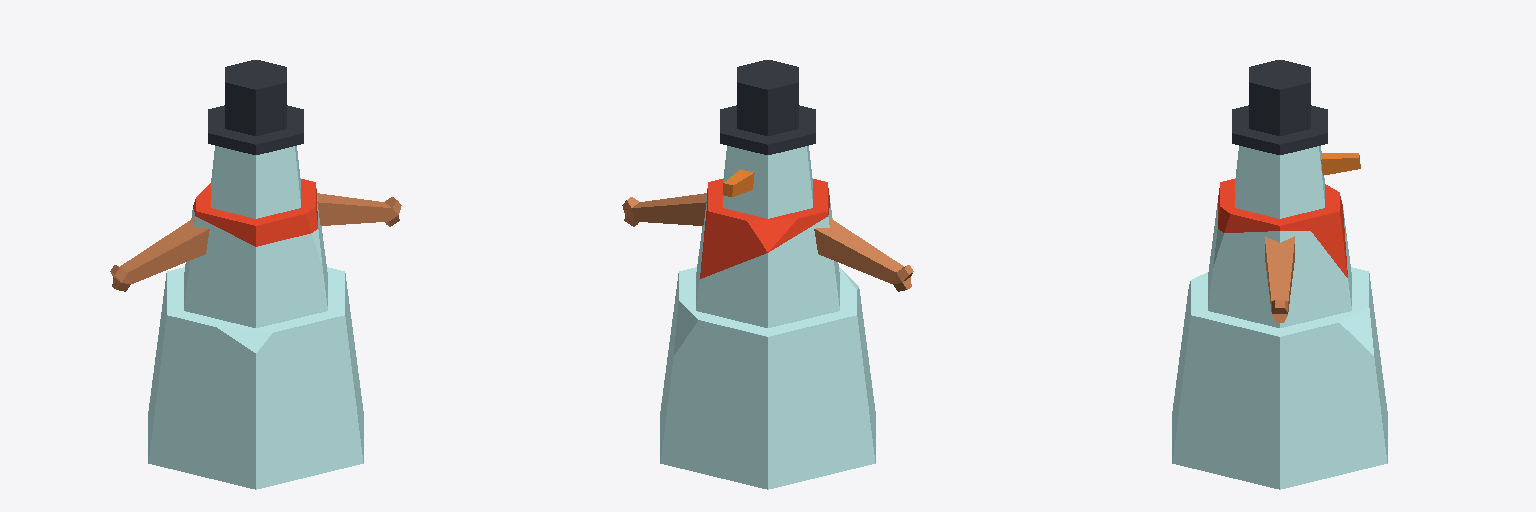
Rendered from snowmanFancy.obj.
The picture shows the model from 3 angles: view 1: azimuth 30°, elevation 25°; view 2: azimuth 150°, elevation 25°; view 3: azimuth 270°, elevation 25°; orthographic projection.
Visible parts, largest first — view 1: snowmanFancy; view 2: snowmanFancy; view 3: snowmanFancy.
Boxes of the visible parts, x1,y1,x2,y2 form: snowmanFancy: [110, 60, 401, 489]; snowmanFancy: [622, 60, 913, 489]; snowmanFancy: [1172, 60, 1387, 489].
Size of the model in its own units: 0.6935 by 0.8381 by 0.4503.